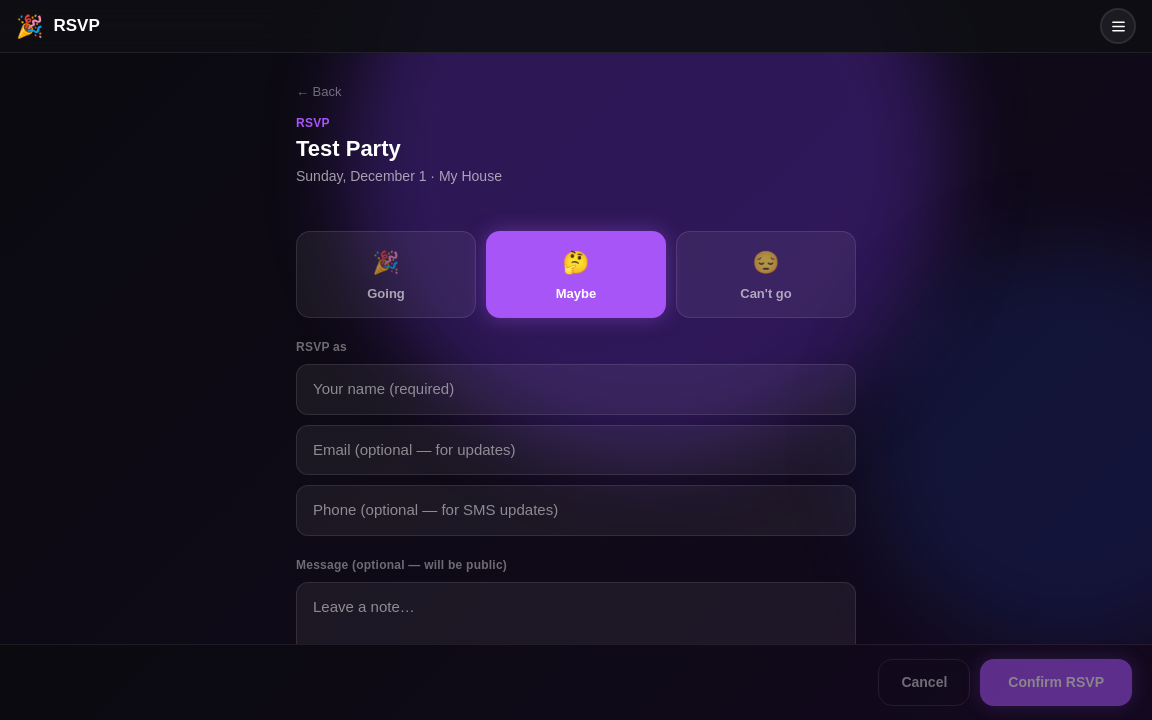
Test: RsvpFlow — new RSVP › shows 'Noted!' on confirmation for MAYBE status
This screenshot has width=1152, height=720.
Type "Carol" into the field with placeholder "Your name (required)" at (576, 390), box top-left (296, 364), bottom-right (856, 415)
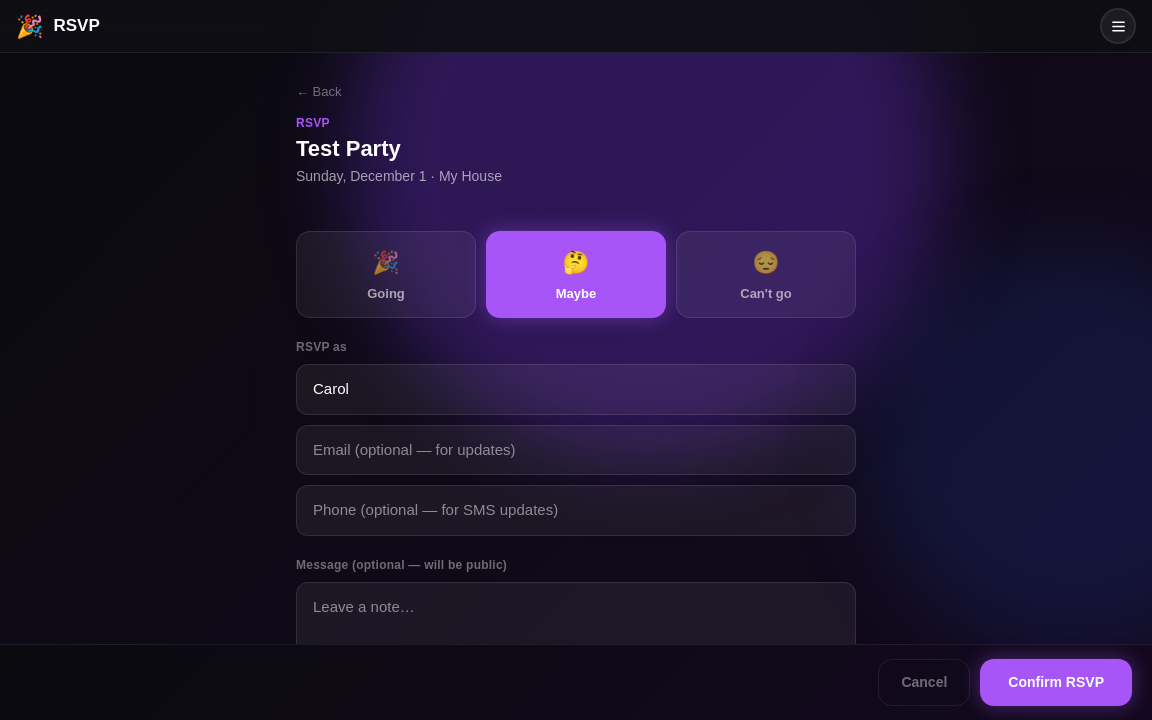
Click the button "Confirm RSVP" at (1056, 682), box top-left (980, 659), bottom-right (1132, 706)
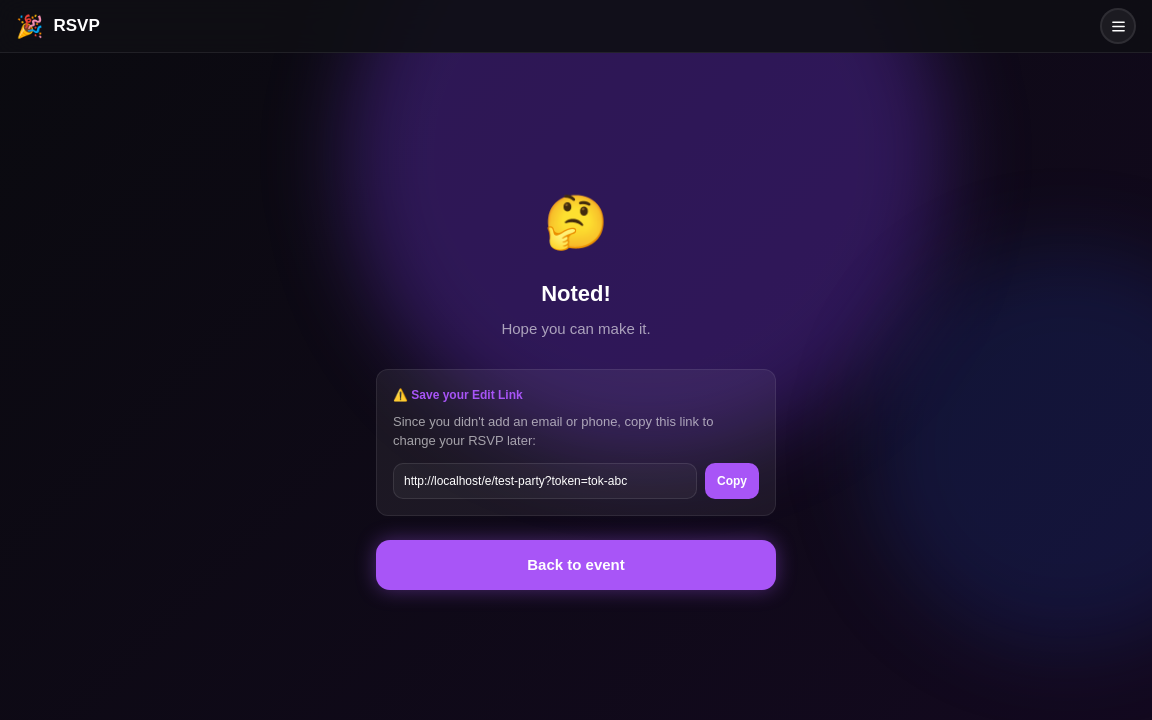
Expected: the heading "Noted!" is shown, top-left (541, 281), bottom-right (611, 306)
